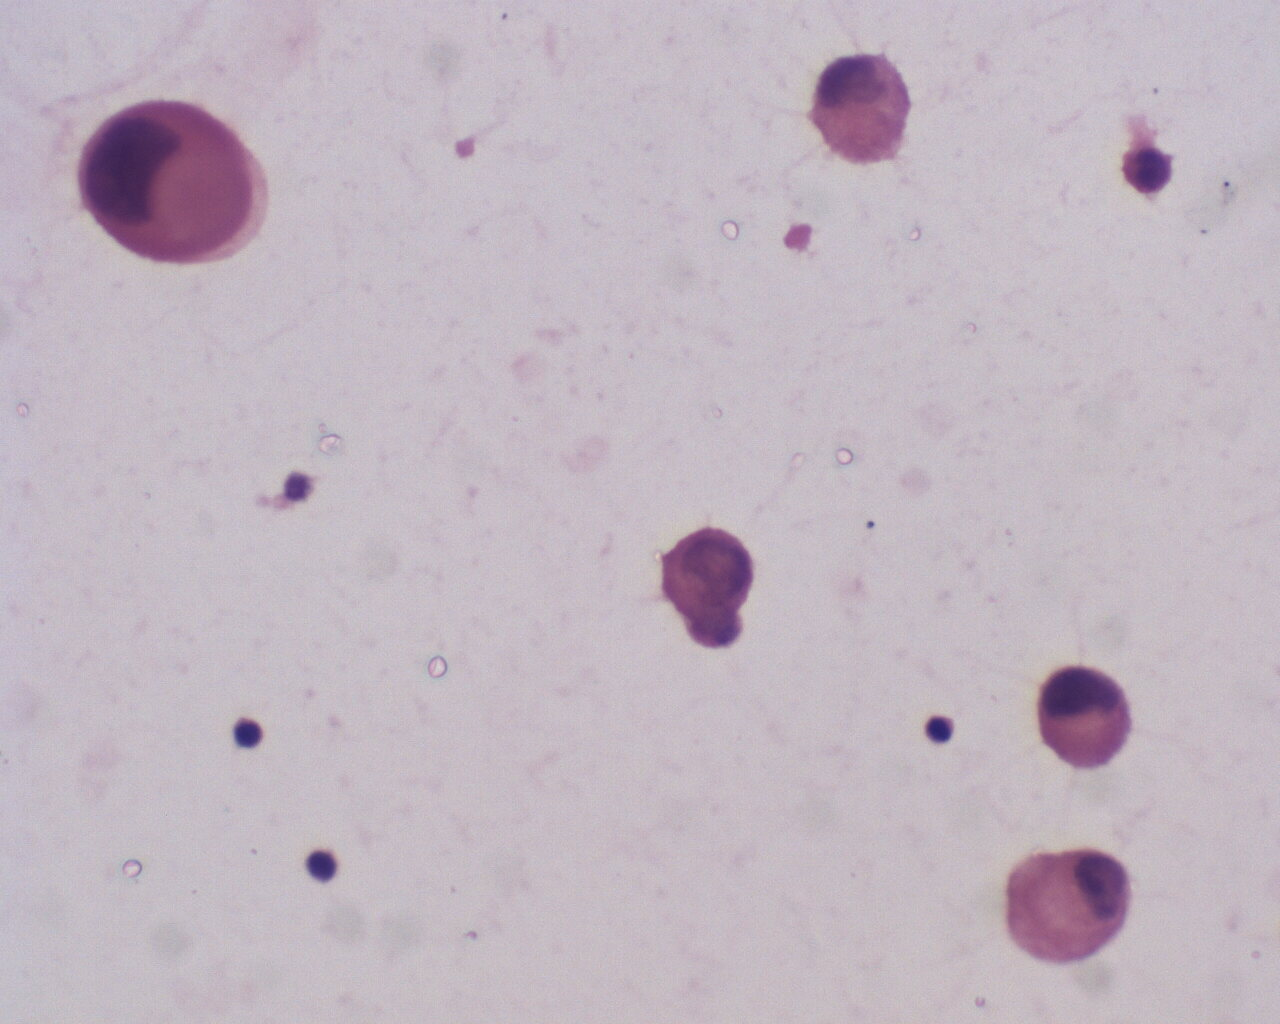ab: (654, 523, 757, 614)
histo: (71, 96, 278, 276), (997, 835, 1138, 976), (806, 47, 924, 166), (1037, 658, 1130, 774)
lymph: (230, 707, 277, 757), (917, 709, 961, 752), (302, 843, 348, 884)
